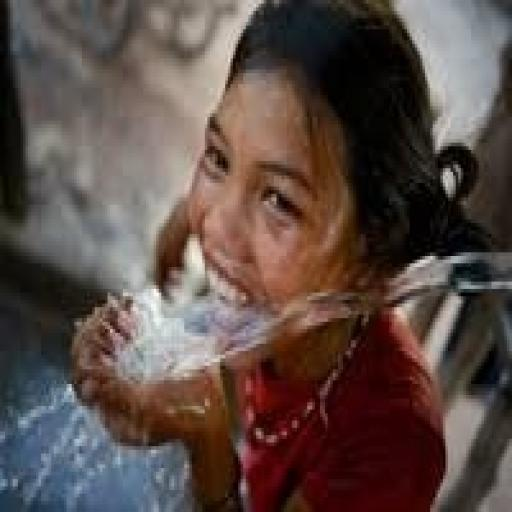drinking: (66, 0, 496, 508)
